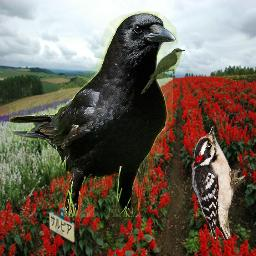Crow: (9, 11, 178, 217)
Cuckoo: (141, 48, 185, 94)
Woodpecker: (192, 126, 245, 239)
